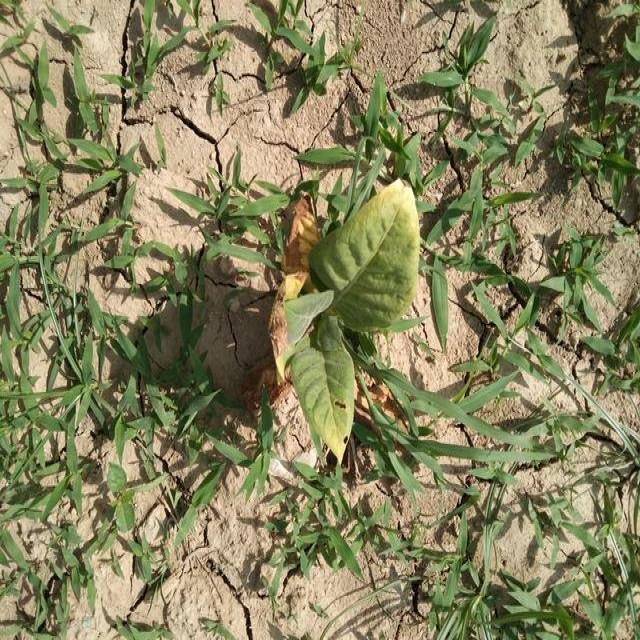crop: (272, 165, 421, 471)
